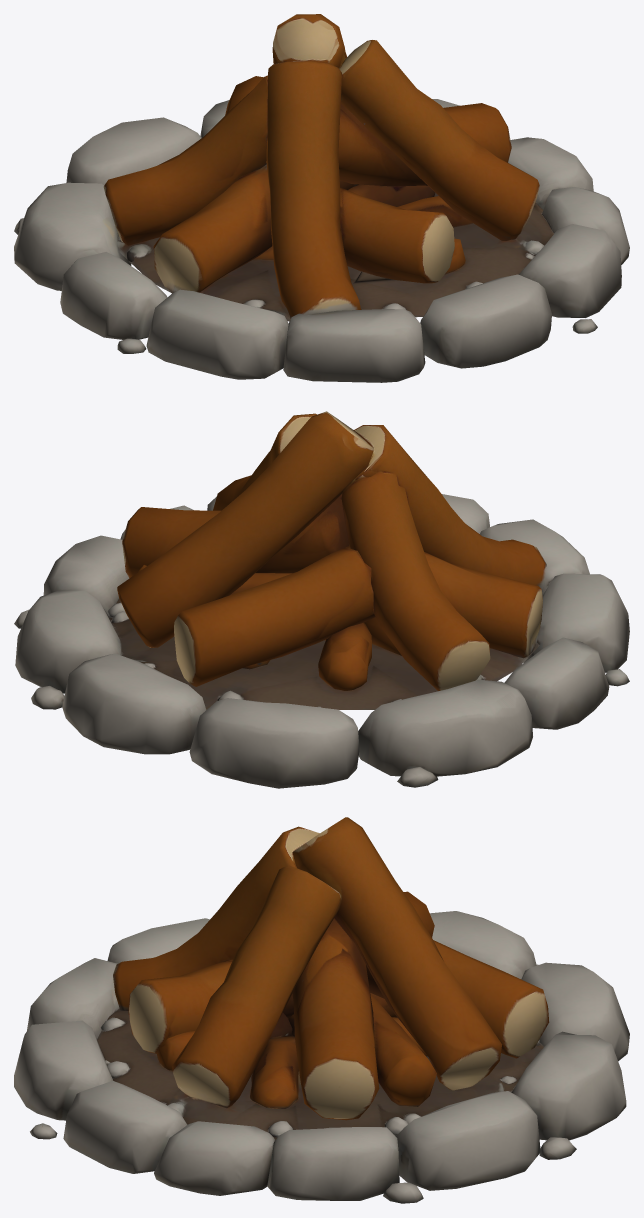
File: campfire_3d_model.glb
3 renders of one model, top to bottom at view 1: azimuth 30°, elevation 25°; view 2: azimuth 150°, elevation 25°; view 3: azimuth 270°, elevation 25°, orthographic. The views are drawn at different scales.
Parts seen in each view (by area): view 1: world; view 2: world; view 3: world.
Part boxes in pixels (x1=…): world: x1=14, y1=14, x2=629, y2=382; world: x1=14, y1=411, x2=629, y2=788; world: x1=14, y1=817, x2=629, y2=1203.
Size of the model in its own units: 0.9863 by 0.4395 by 0.998.
1 material, 1 textured.
